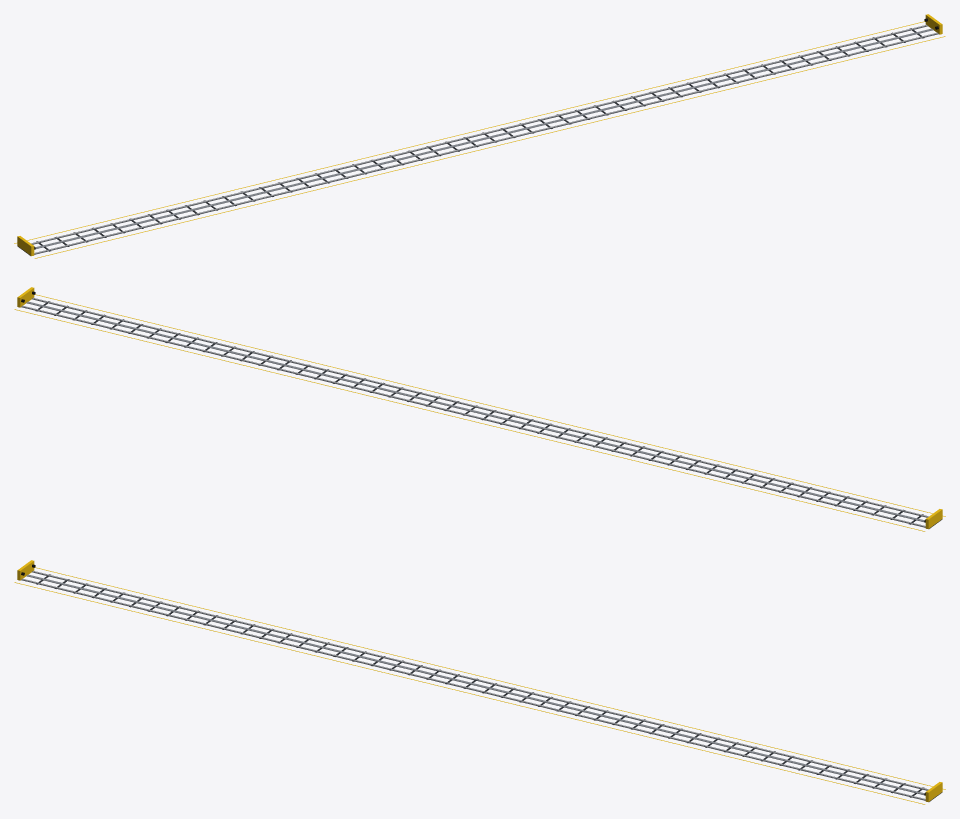
File: rgv_track_49.02m.glb
3 views of the same model, one above another, from view 1: azimuth 30°, elevation 25°; view 2: azimuth 150°, elevation 25°; view 3: azimuth 330°, elevation 25° (orthographic).
Parts seen in each view (by area): view 1: track__steel_dark, track__steel, track__yellow, track__grey, track__dark; view 2: track__steel_dark, track__steel, track__yellow, track__grey, track__dark; view 3: track__steel_dark, track__steel, track__yellow, track__grey, track__dark.
Boxes of the visible parts, left/top/right/bottom form: track__steel_dark: left=32, top=25, right=938, bottom=254; track__steel: left=31, top=25, right=937, bottom=253; track__yellow: left=14, top=14, right=945, bottom=258; track__grey: left=35, top=28, right=933, bottom=248; track__dark: left=17, top=28, right=924, bottom=255; track__steel_dark: left=21, top=298, right=927, bottom=527; track__steel: left=22, top=298, right=928, bottom=526; track__yellow: left=14, top=287, right=945, bottom=531; track__grey: left=26, top=301, right=924, bottom=521; track__dark: left=35, top=301, right=942, bottom=528; track__steel_dark: left=21, top=571, right=927, bottom=800; track__steel: left=22, top=571, right=928, bottom=799; track__yellow: left=14, top=560, right=945, bottom=804; track__grey: left=26, top=574, right=924, bottom=794; track__dark: left=36, top=574, right=942, bottom=801.
Size of the model in its own units: 49.06 by 0.5 by 1.95.
